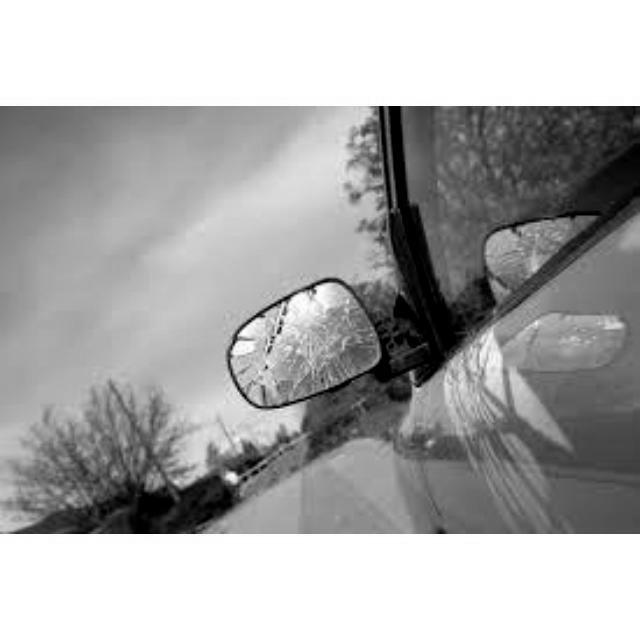Sidemirror-Damage: (209, 277, 465, 418)
